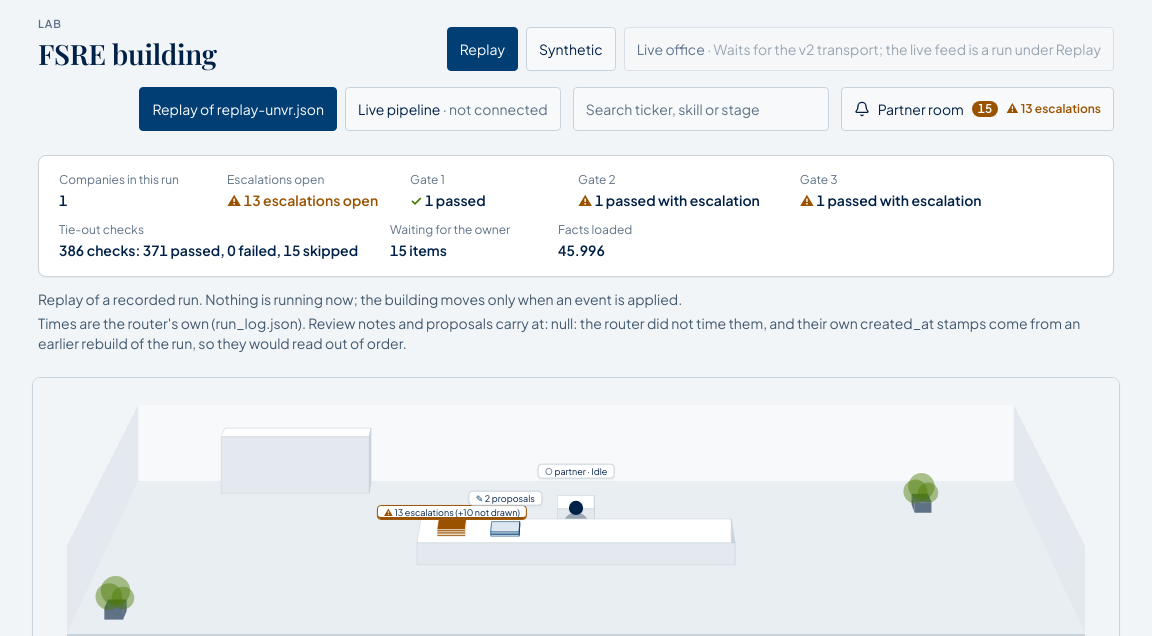
Scenario: the bundled replay: the real export (brief 04) › lists every escalated note and both proposals in the partner room, titles as written
This screenshot has width=1152, height=636.
Click the button with aria-label "Partner room:" at coordinates (977, 109), box [841, 87, 1114, 131]
(page scrolled)
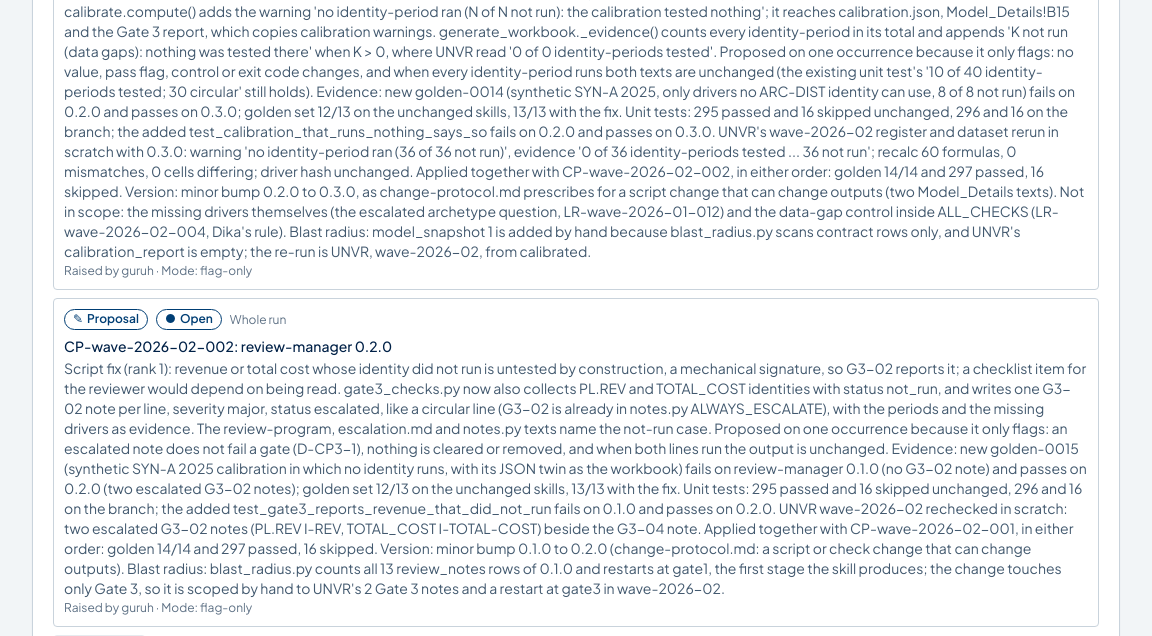
Check: the text "CP-wave-2026-02-002: review-manager 0.2.0" is shown, box [64, 337, 392, 355]
